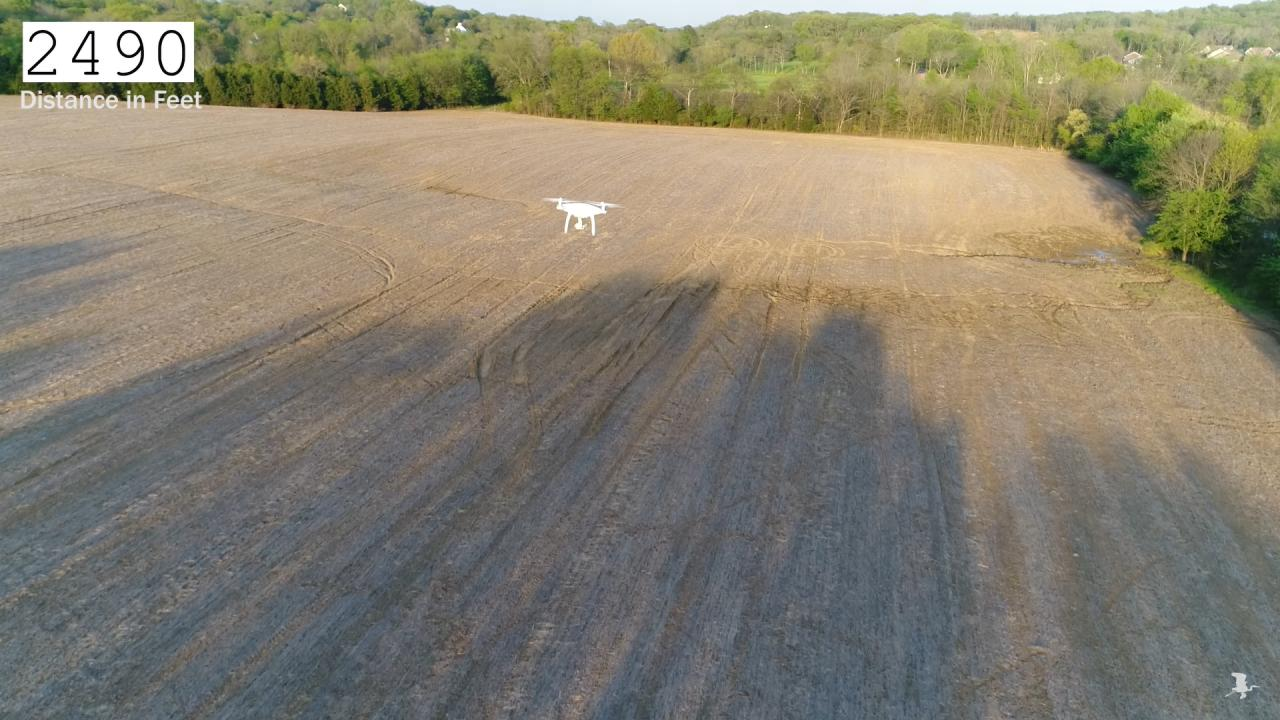Drone: (534, 189, 632, 245)
